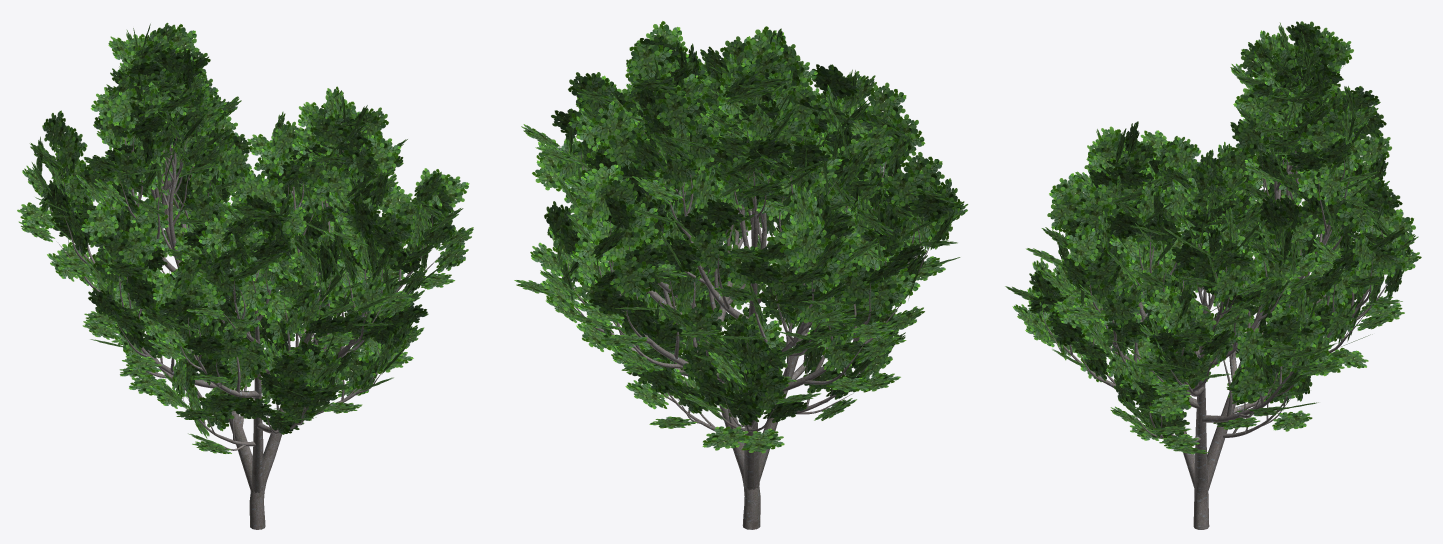
Rendered from noisetier.glb.
3 views of the same model, side by side, from view 1: azimuth 30°, elevation 25°; view 2: azimuth 150°, elevation 25°; view 3: azimuth 270°, elevation 25° (orthographic). The views are drawn at different scales.
Visible parts, largest first — view 1: Object_3, Object_2; view 2: Object_3, Object_2; view 3: Object_3, Object_2.
Part boxes in pixels (x1=…): Object_3: x1=17, y1=22, x2=473, y2=453; Object_2: x1=42, y1=87, x2=440, y2=529; Object_3: x1=514, y1=21, x2=968, y2=453; Object_2: x1=562, y1=104, x2=930, y2=529; Object_3: x1=1005, y1=21, x2=1421, y2=454; Object_2: x1=1043, y1=83, x2=1387, y2=529.
Bounding box in the file's own units: 2.4 × 2.9 × 2.35.
2 materials, 2 textured.
